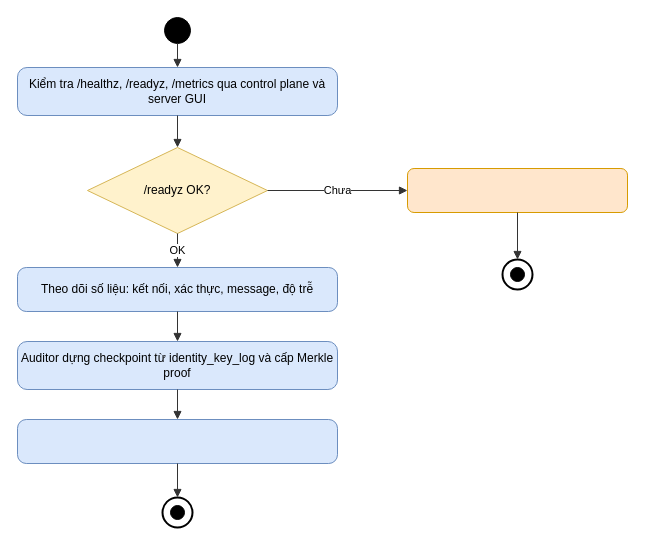
Some shapes in this 645 by 546 pixel diagram are drawn without their labels. The box of each missing label's shape, as (x1, y1, x2, y2) in pixels:
Chờ đến khi DB / phụ thuộc sẵn sàng: (406, 168, 628, 212)
Client kiểm tra proof khi nhận bundle: (16, 418, 338, 464)
